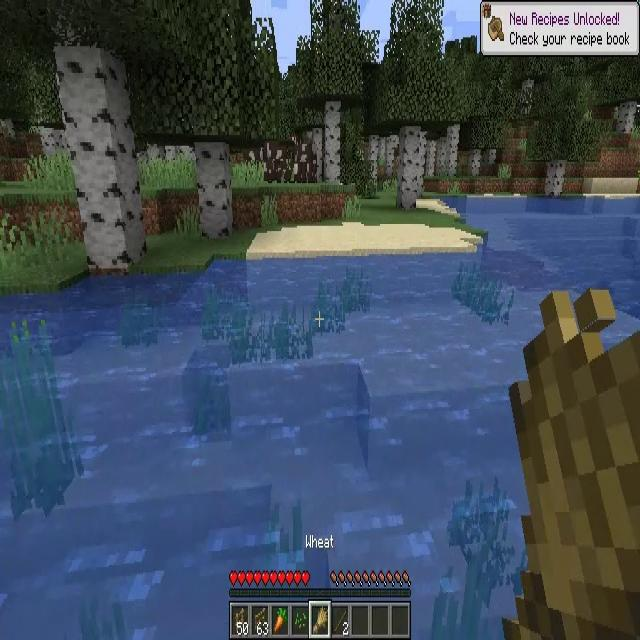cow: (264, 142, 294, 182), (298, 144, 315, 181)
